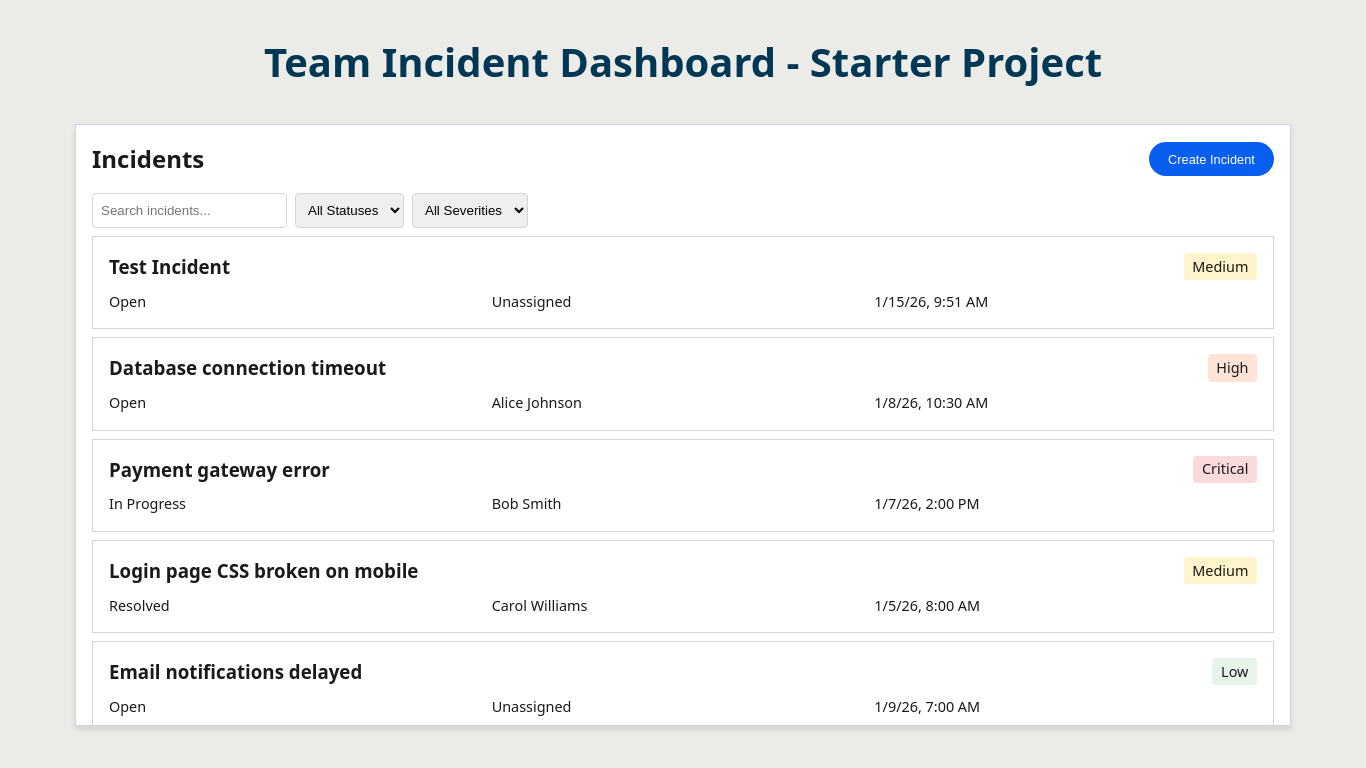
Test: App › updates an incident status and reflects in the list
Note: click an incident
Step 1. Click the heading "Database connection timeout" → click(248, 368), box x1=109 y1=354 x2=386 y2=382
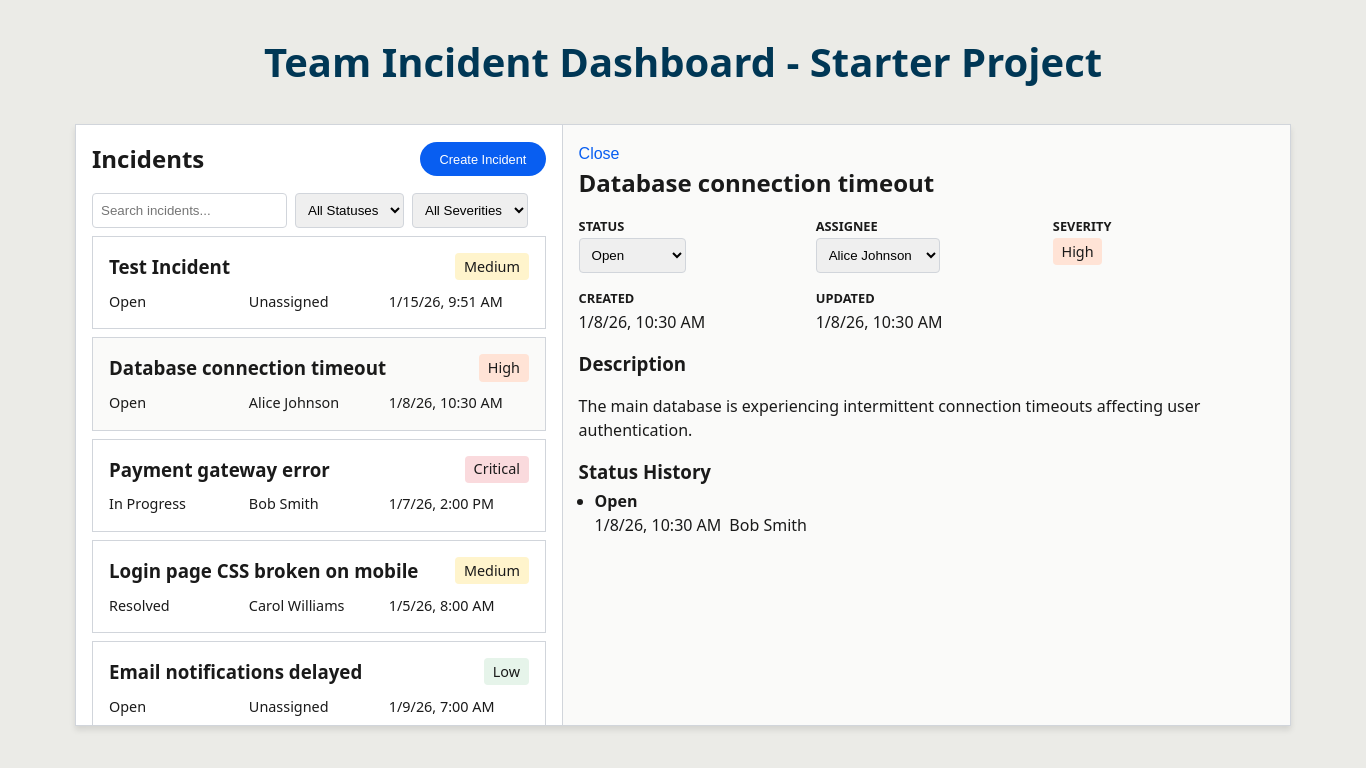
Expected: the dropdown named "Change incident status" shows "Open"
Note: change status to "In Progress"
Step 2. Select "In Progress" in the dropdown named "Change incident status" → (632, 255), box x1=579 y1=238 x2=686 y2=273
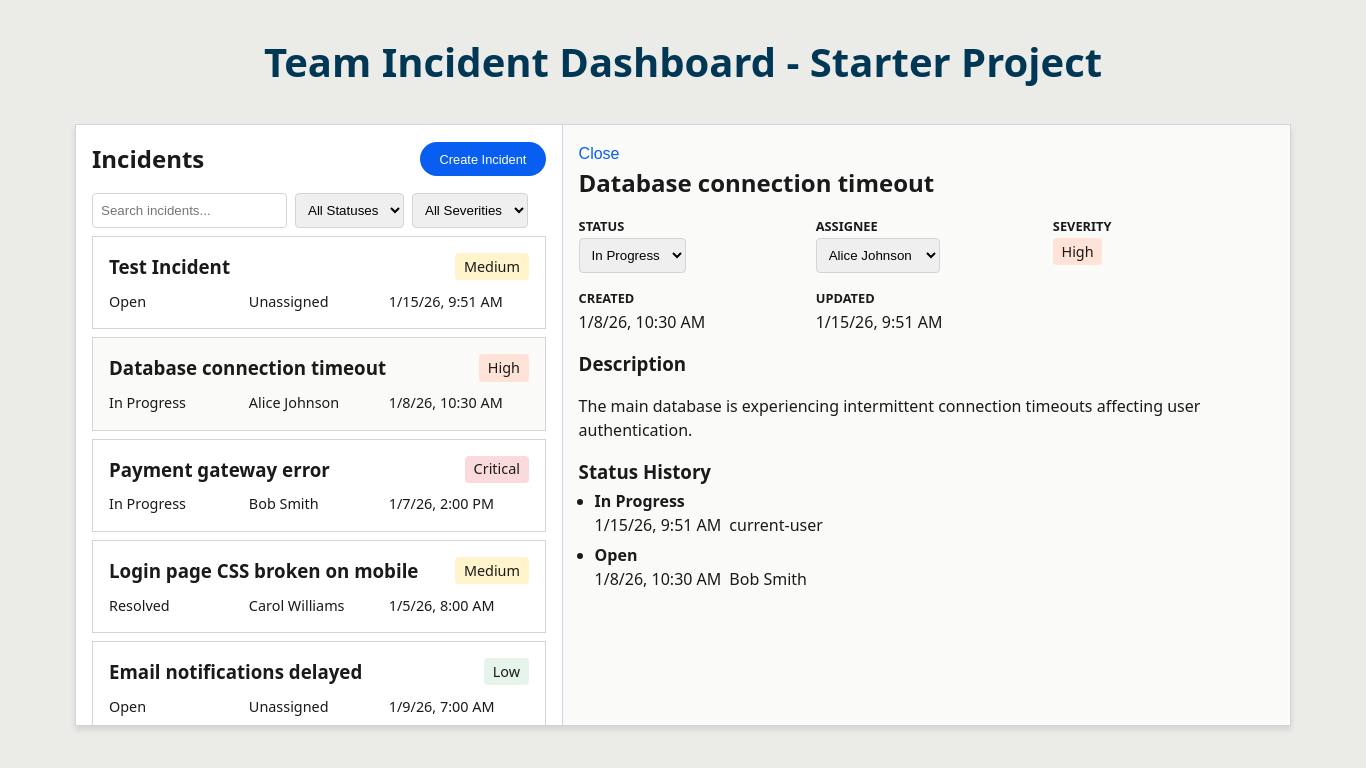
Expected: the button with test id "incident-list-item-inc-1" shows "In Progress", x1=92 y1=337 x2=546 y2=431
